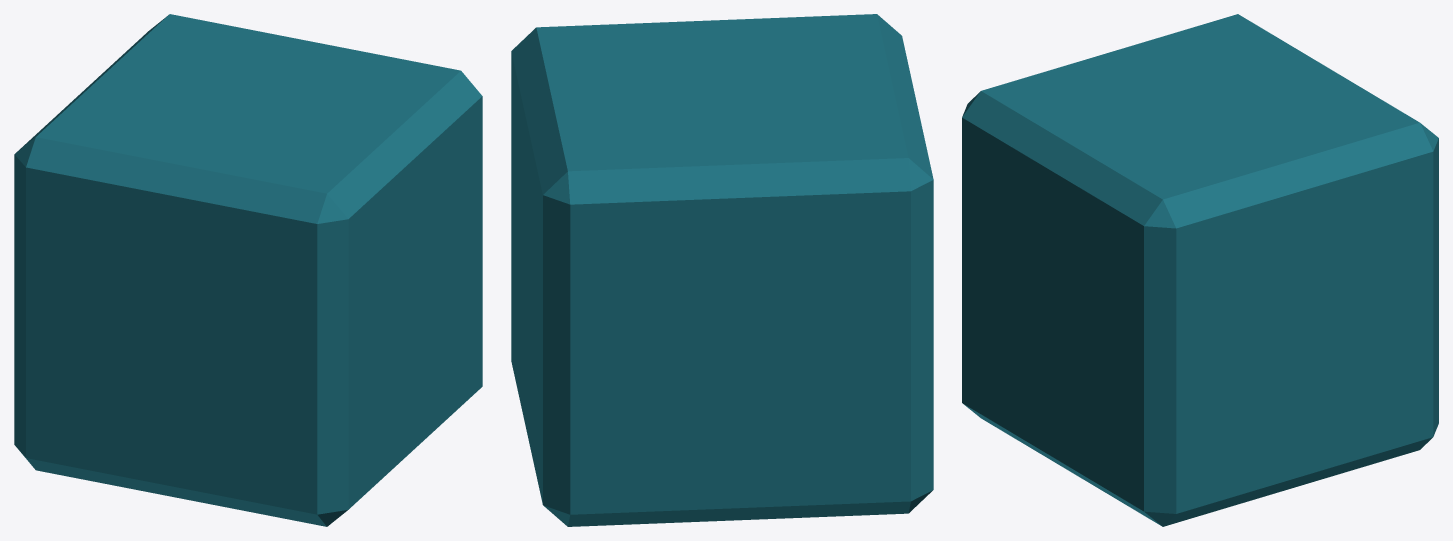
The model's file is CuboHielo.fbx.
3 renders of one model, left to right at view 1: azimuth 30°, elevation 25°; view 2: azimuth 150°, elevation 25°; view 3: azimuth 270°, elevation 25°, orthographic. The views are drawn at different scales.
Visible parts, largest first — view 1: Cubito; view 2: Cubito; view 3: Cubito.
Boxes of the visible parts, x1,y1,x2,y2 form: Cubito: (14,14,482,526); Cubito: (511,14,933,526); Cubito: (962,14,1438,526).
Bounding box in the file's own units: 340 × 258 × 340.
